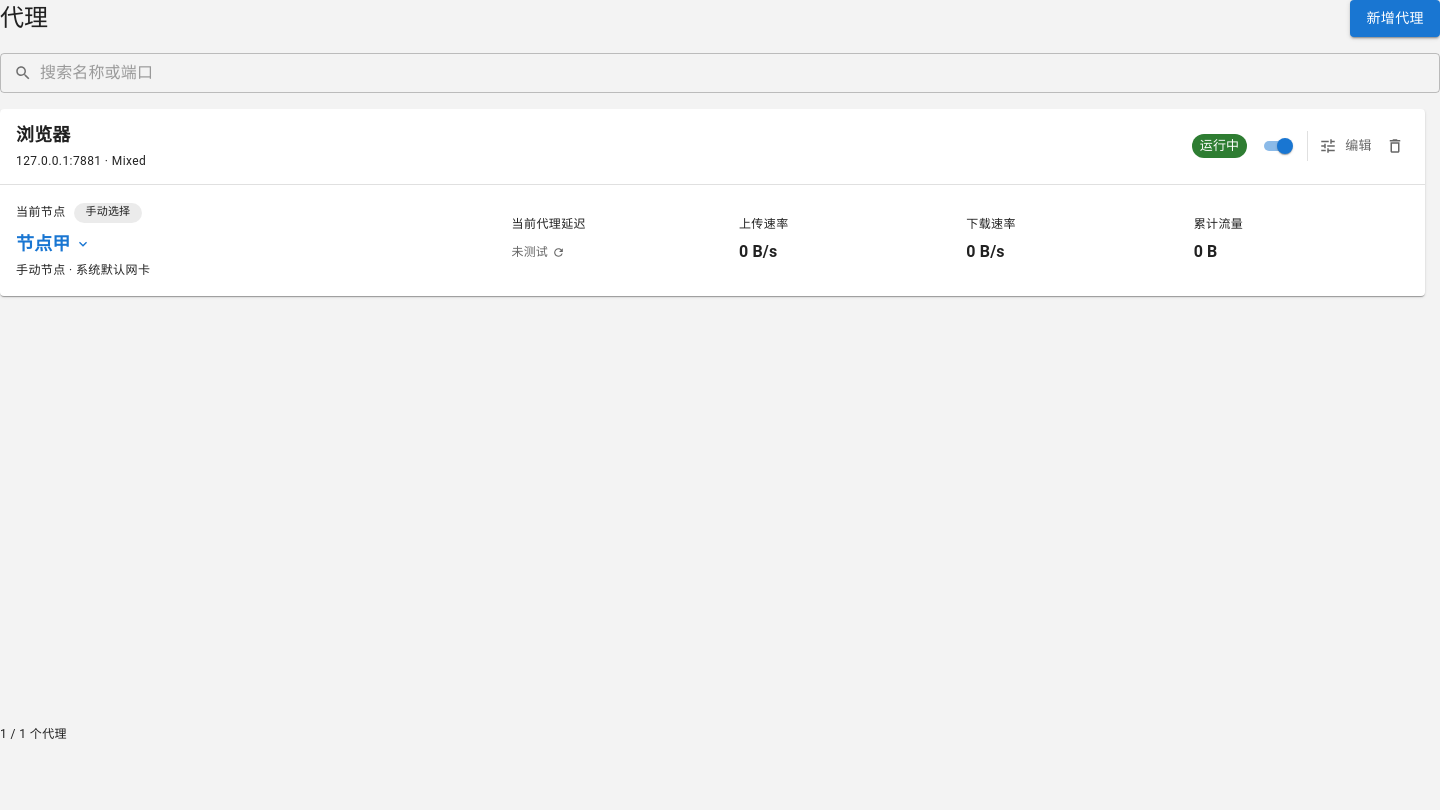
it: opens the large picker directly from a manual-strategy proxy card
Expected: the element "浏览器" is shown, [0,108,1425,296]
What coordinates should you click on to do the following:
click the button with aria-label "切换 浏览器 的节点"
I would click on:
 (53, 244)
Its box is [16,228,90,258].
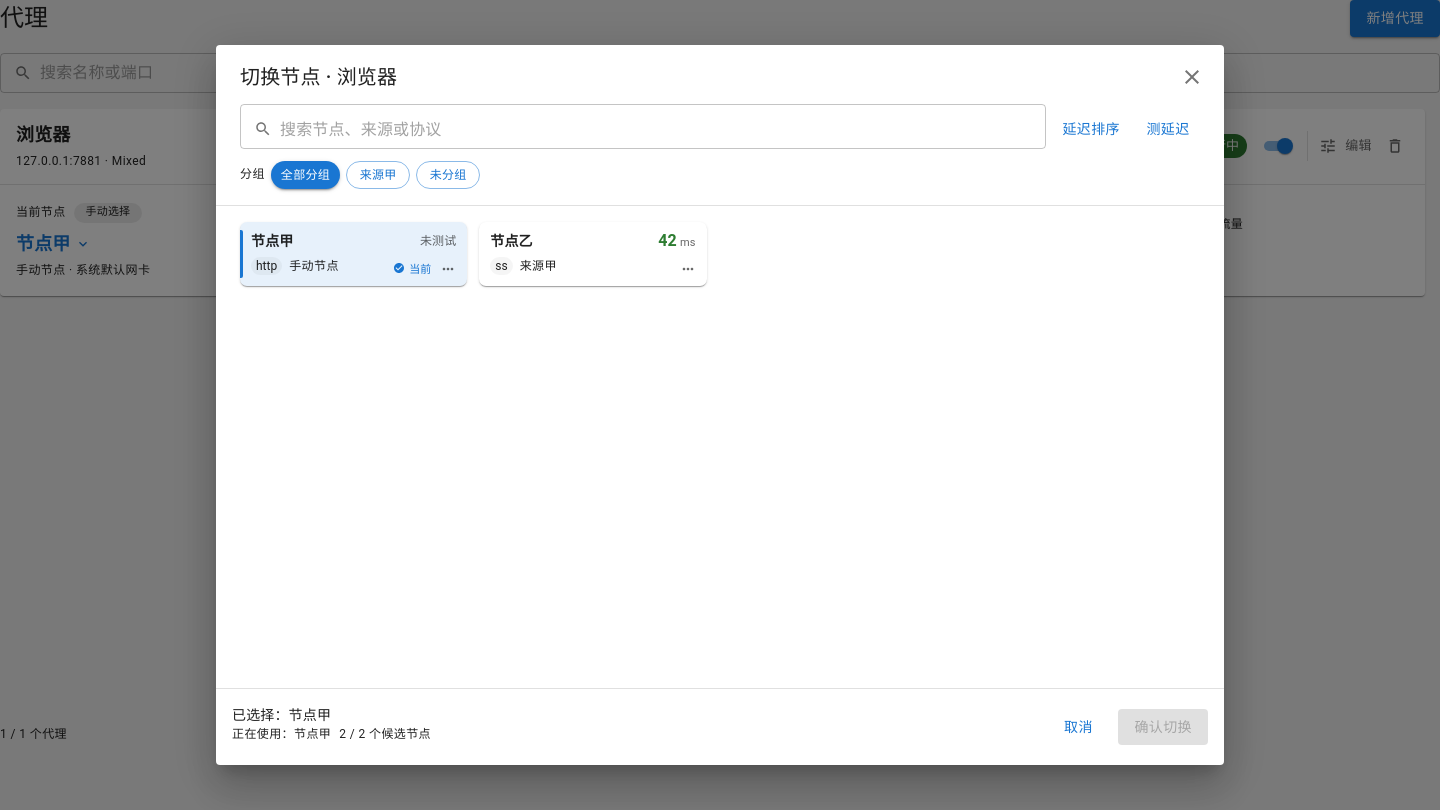
Expected: the dialog "切换节点 · 浏览器" is shown
Expected: the number of radio buttons is 2, [240,222,467,286]; [479,222,706,286]
